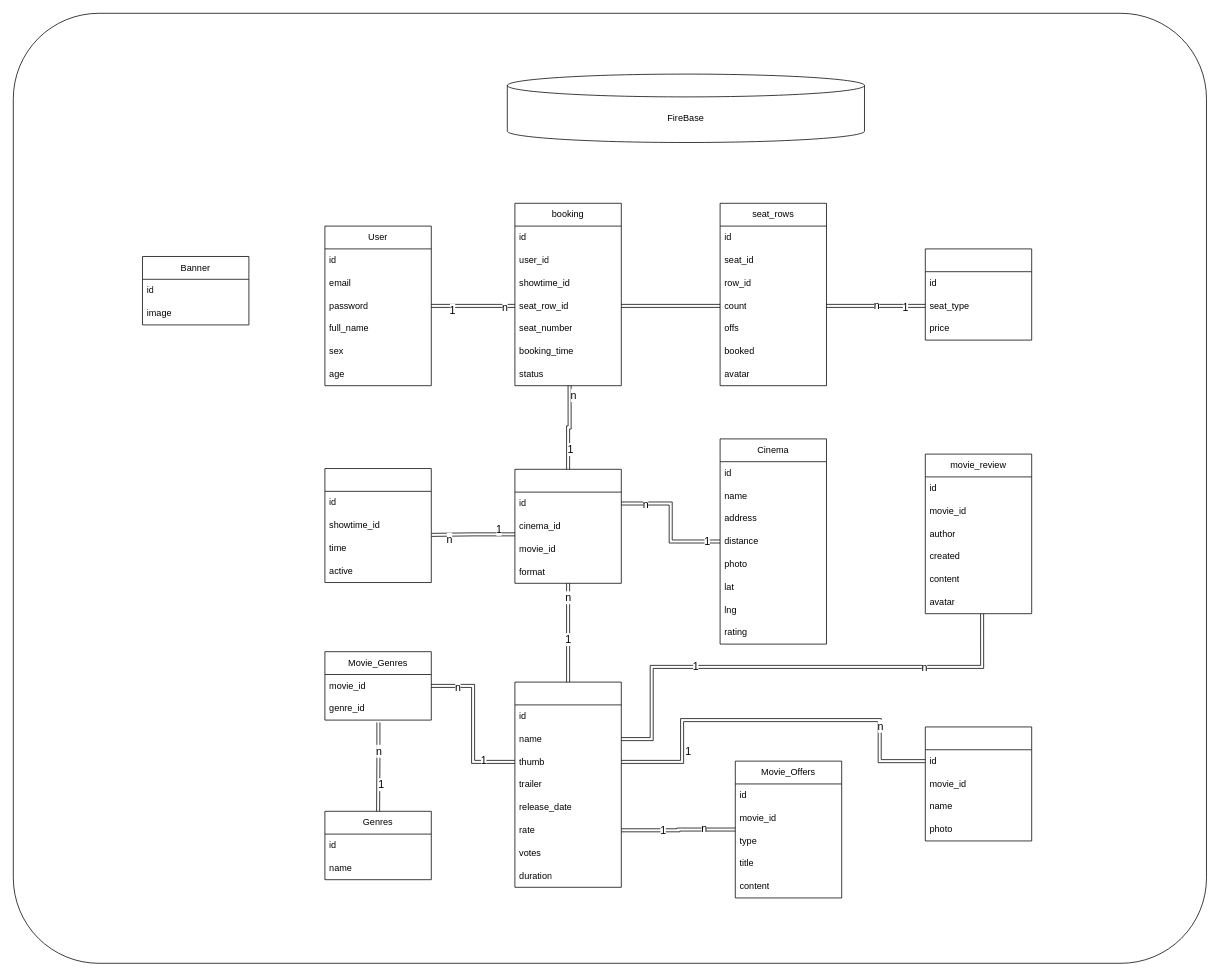
Image size: 1220x977. Some labels were removed from this diagram. Each missing label, with the box of its shape:
Movie_Cast: (925, 726, 1032, 841)
Movies: (514, 681, 621, 887)
seats: (925, 248, 1032, 340)
show_time: (514, 469, 621, 583)
time_slot: (324, 468, 431, 583)
